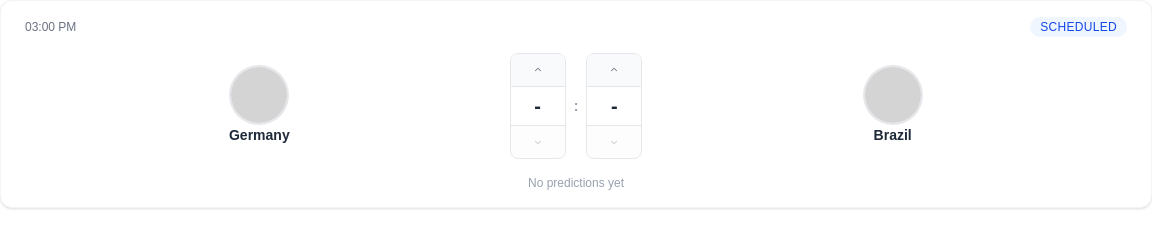
Test: MatchCard › increment button increases the home counter
Click the button named "Increase Germany score": x=538, y=70 top-left (511, 54), bottom-right (565, 86)
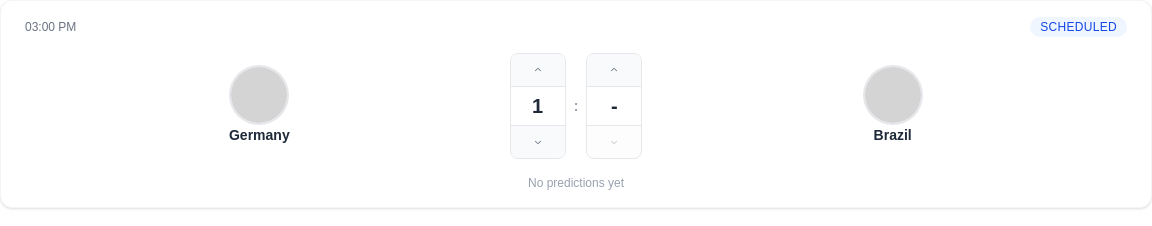
Expected: the text "1" is shown, top-left (532, 92), bottom-right (543, 120)
